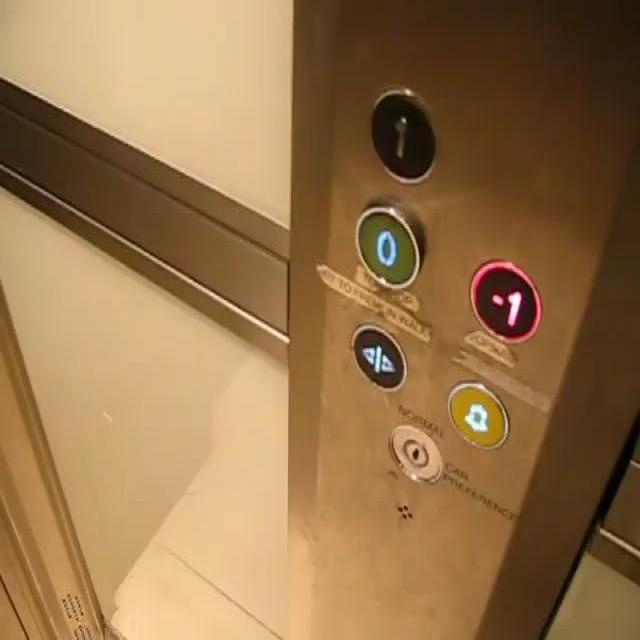-1: (466, 253, 543, 344)
0: (352, 196, 424, 291)
1: (367, 76, 437, 185)
alarm: (445, 376, 510, 452)
keyhole: (386, 418, 447, 490)
open: (349, 320, 409, 393)
